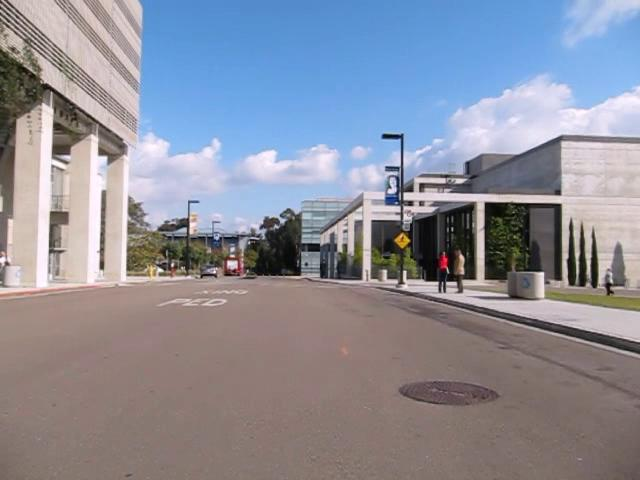pedestrianCrossing: (393, 231, 411, 250)
